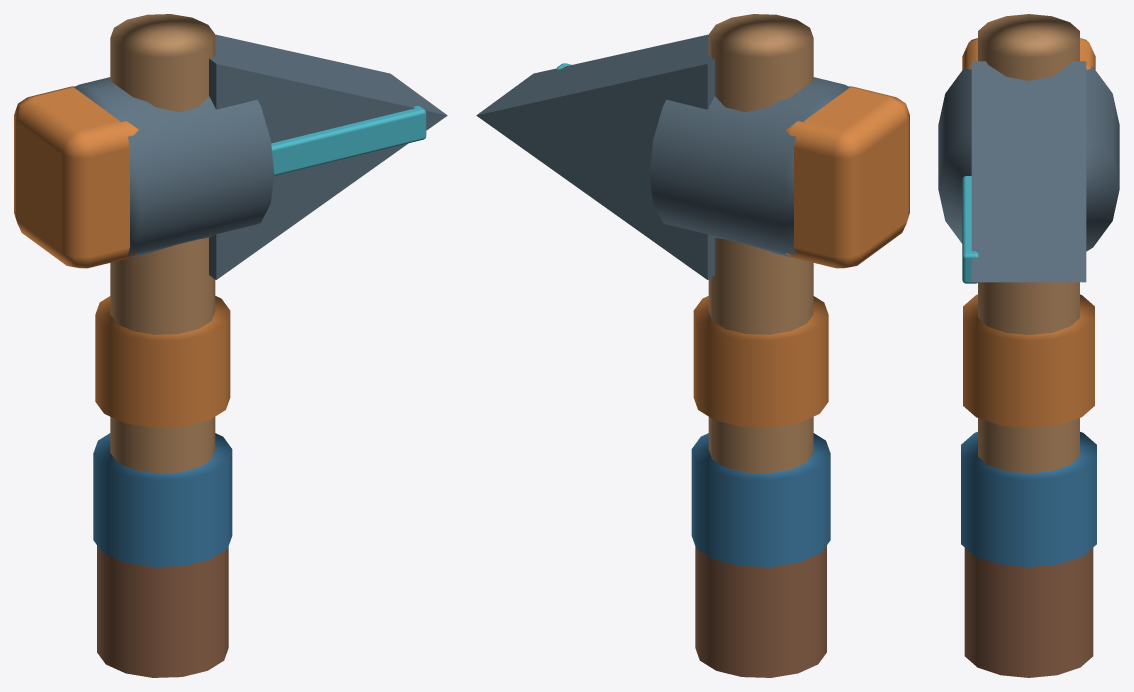
The model's file is axe.glb.
The picture shows the model from 3 angles, left to right: view 1: azimuth 30°, elevation 25°; view 2: azimuth 150°, elevation 25°; view 3: azimuth 270°, elevation 25°; orthographic projection.
Visible parts, largest first — view 1: t09_harvest_axe; view 2: t09_harvest_axe; view 3: t09_harvest_axe.
Boxes of the visible parts, x1,y1,x2,y2 form: t09_harvest_axe: [14, 14, 447, 677]; t09_harvest_axe: [476, 14, 909, 677]; t09_harvest_axe: [938, 14, 1119, 677].
Bounding box in the file's own units: 0.46 × 0.71 × 0.19.
